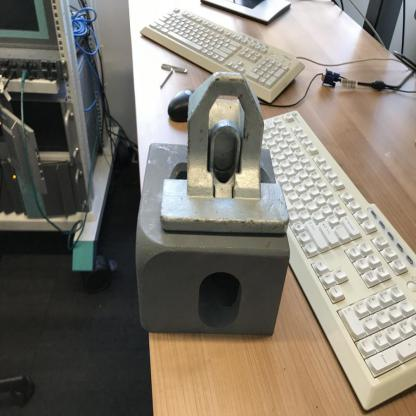CornerCasting: (133, 144, 288, 346)
Twistlock: (157, 64, 300, 236)
